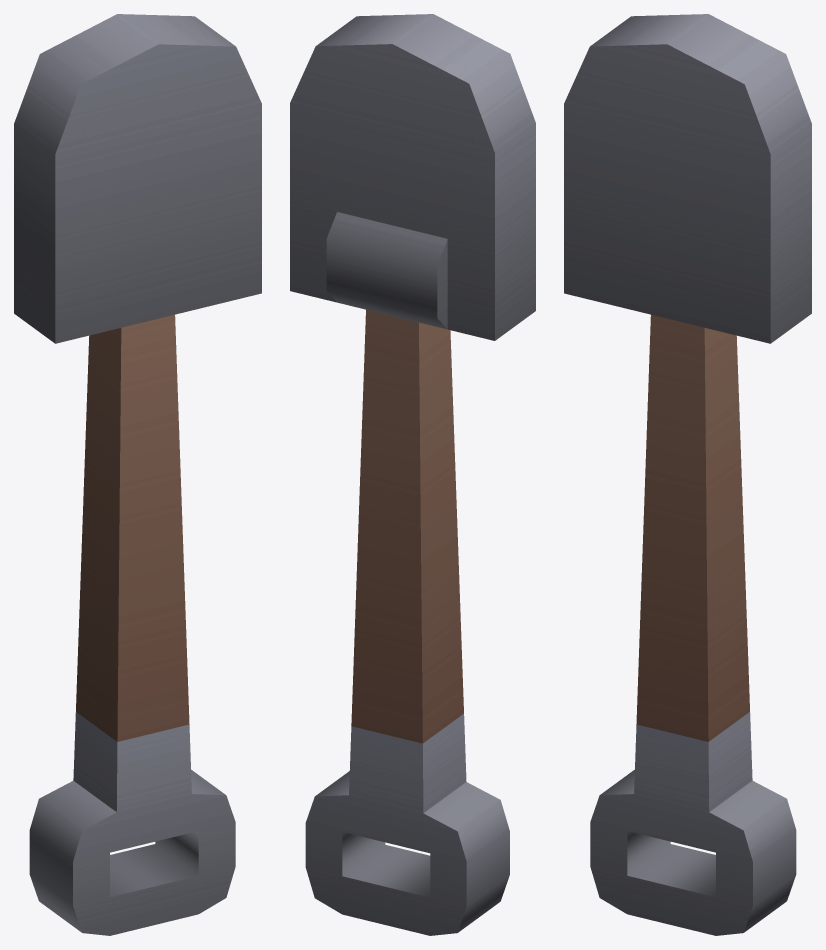
File: shovel.glb
3 renders of one model, left to right at view 1: azimuth 30°, elevation 25°; view 2: azimuth 150°, elevation 25°; view 3: azimuth 330°, elevation 25°, orthographic.
Visible parts, largest first — view 1: tool-shovel; view 2: tool-shovel; view 3: tool-shovel.
Boxes of the visible parts, x1,y1,x2,y2 form: tool-shovel: (14, 14, 261, 935); tool-shovel: (290, 14, 535, 935); tool-shovel: (564, 14, 811, 935).
Size of the model in its own units: 0.188 by 0.7685 by 0.082.
1 material, 1 textured.
